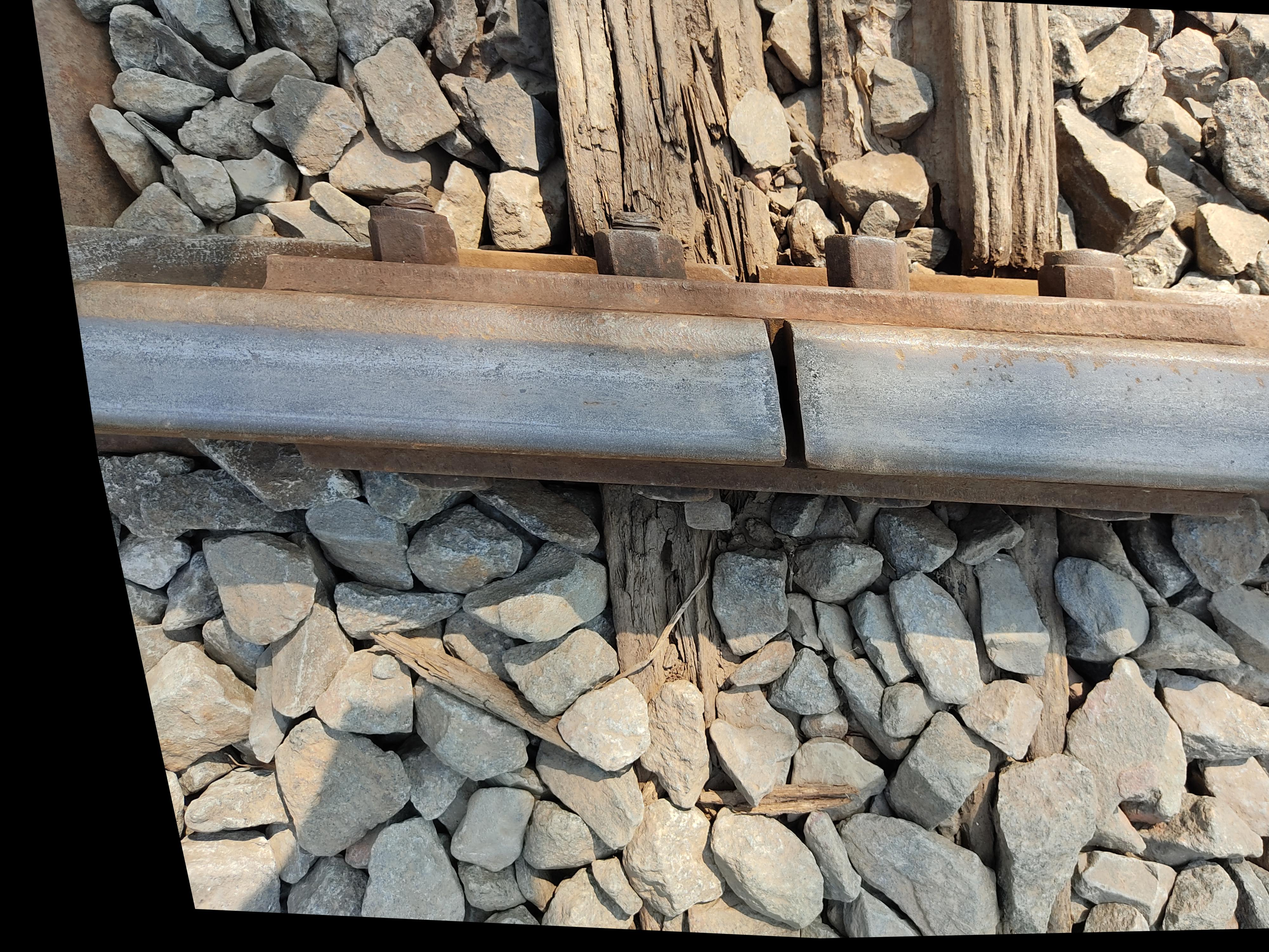person: (381, 575, 528, 713)
